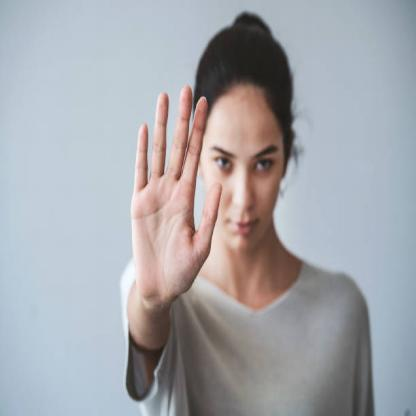stop: (128, 81, 223, 309)
